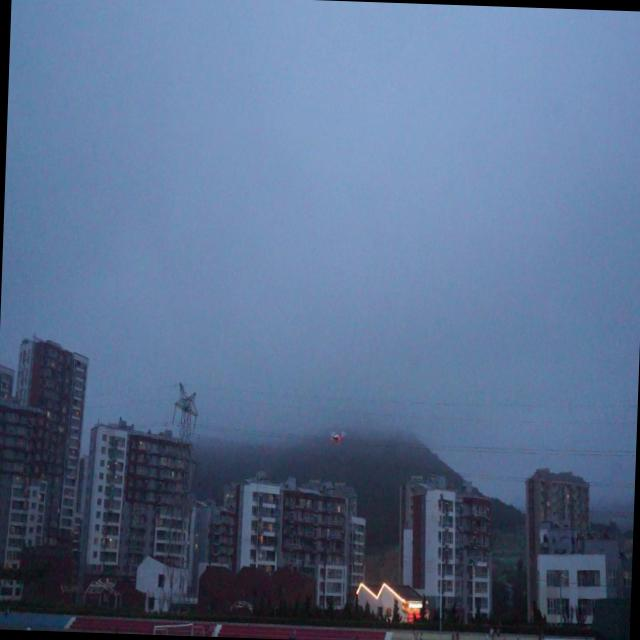drone: (326, 426, 346, 448)
